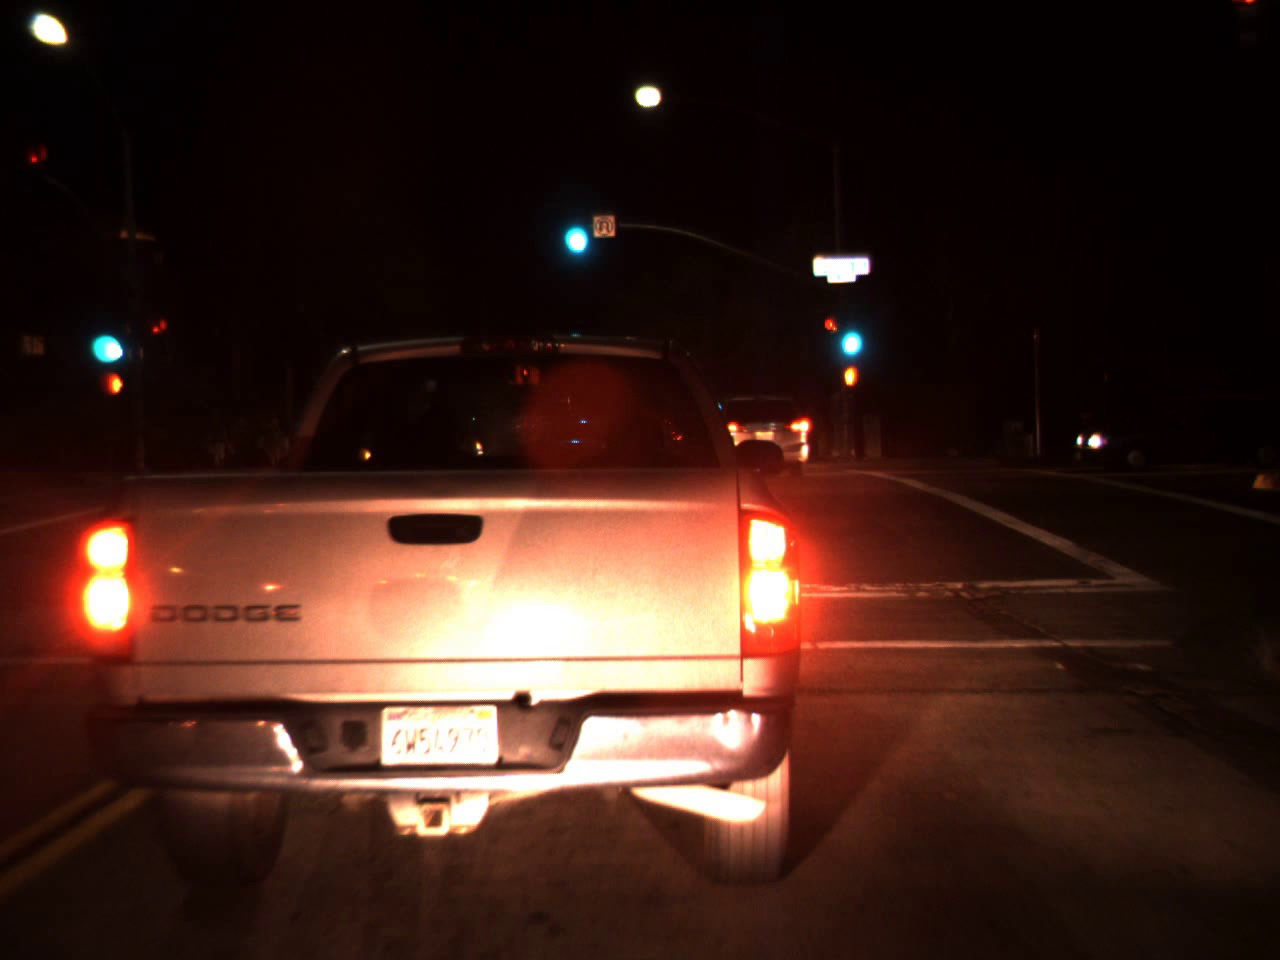go: (81, 297, 126, 375), (555, 192, 592, 264), (833, 301, 866, 364)
